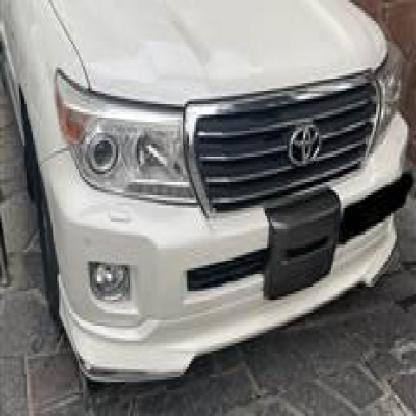Car: (0, 0, 409, 372)
